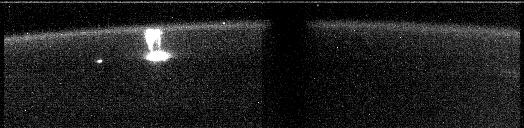positive: (143, 29, 163, 50)
